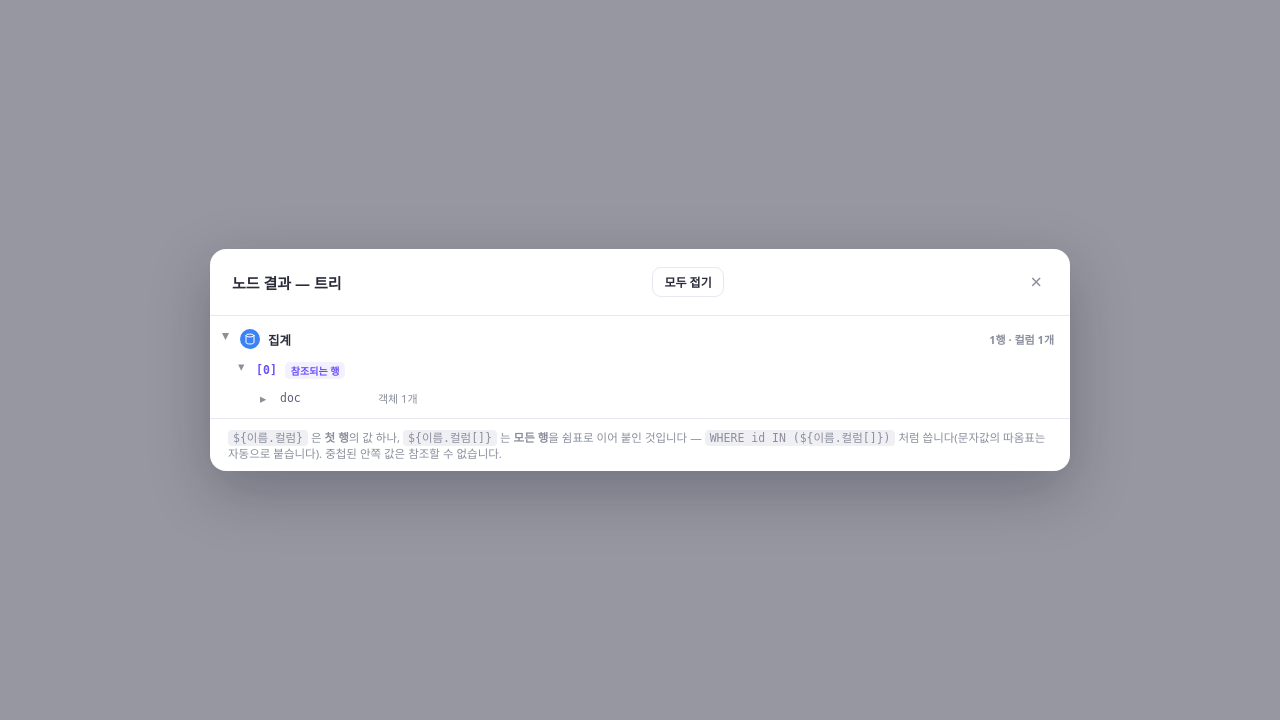
it: 결과 트리 팝업 › 중첩된 값은 다시 트리로 펼친다 (Mongo 문서)
Click the button "▸ doc 객체 1개" at x=398, y=398, box x1=210 y1=384 x2=1070 y2=412
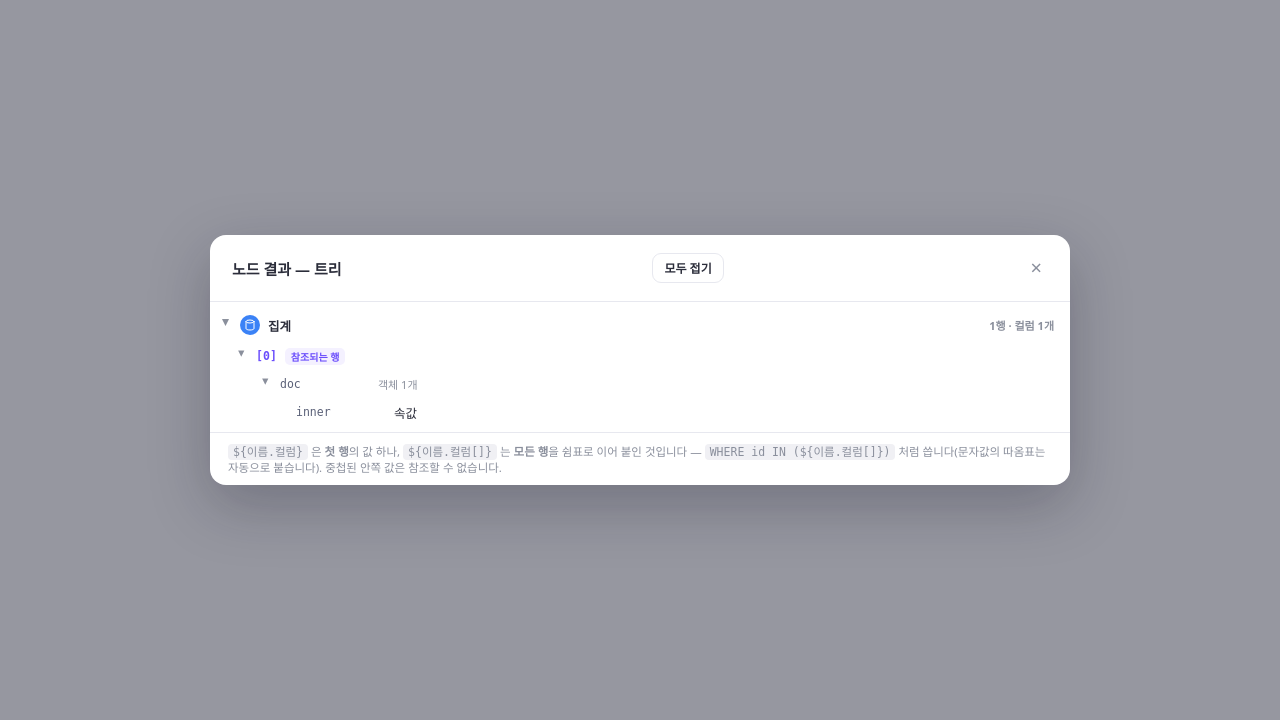
Result: the text "속값" is shown at x1=394 y1=402 x2=417 y2=422
